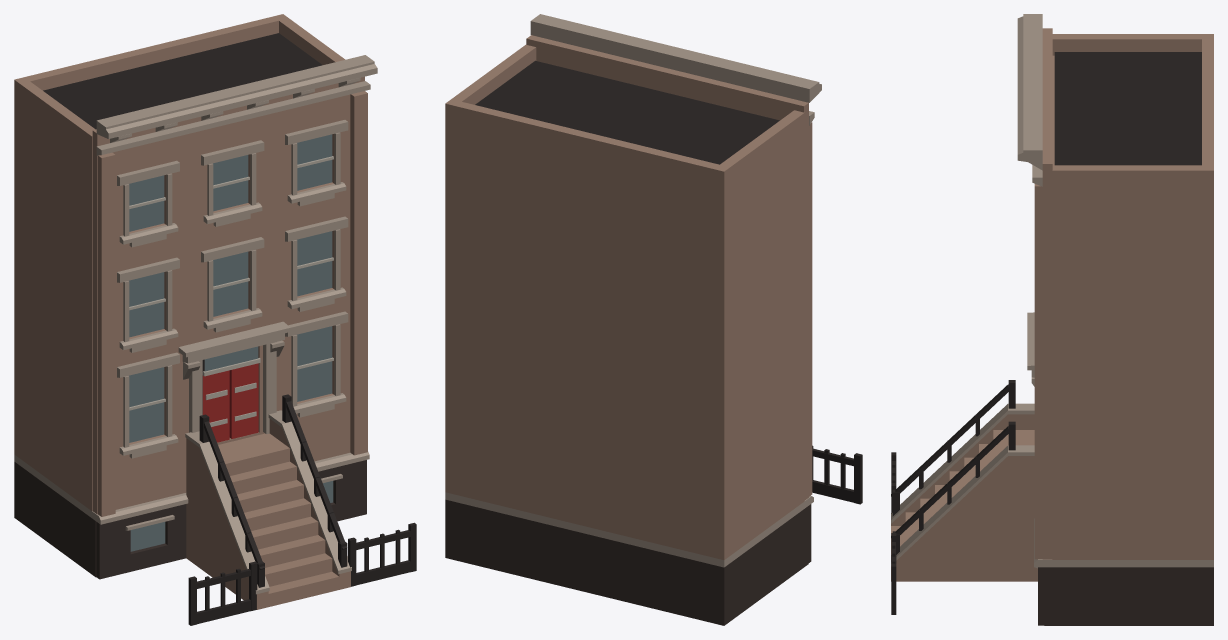
The model's file is brownstone-row-house-e58392.glb.
The picture shows the model from 3 angles, left to right: view 1: azimuth 30°, elevation 25°; view 2: azimuth 150°, elevation 25°; view 3: azimuth 270°, elevation 25°; orthographic projection. The views are drawn at different scales.
Visible parts, largest first — view 1: brownstone-row-house, door-right, door-left; view 2: brownstone-row-house; view 3: brownstone-row-house.
Boxes of the visible parts, bbox=[...] form: brownstone-row-house: bbox=[14, 14, 416, 625]; door-right: bbox=[229, 363, 258, 438]; door-left: bbox=[202, 370, 229, 442]; brownstone-row-house: bbox=[445, 14, 862, 625]; brownstone-row-house: bbox=[891, 14, 1213, 625].
Bounding box in the file's own units: 8 × 13 × 8.
